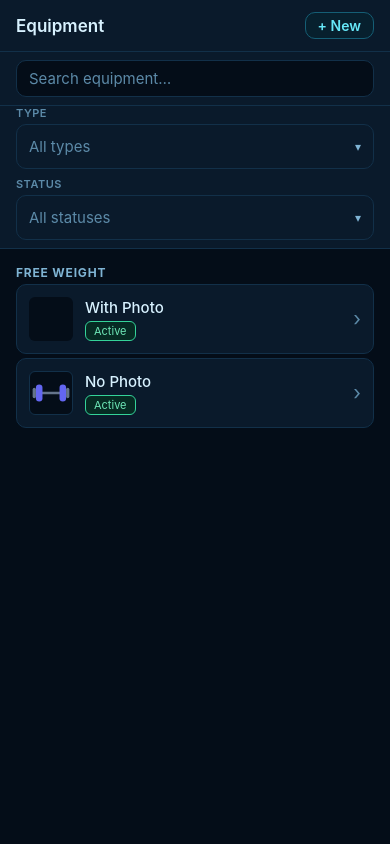
offers to remove the photo only when there is one
The image size is (390, 844).
Click the text "No Photo" at [118, 381], box [85,372,151,390]
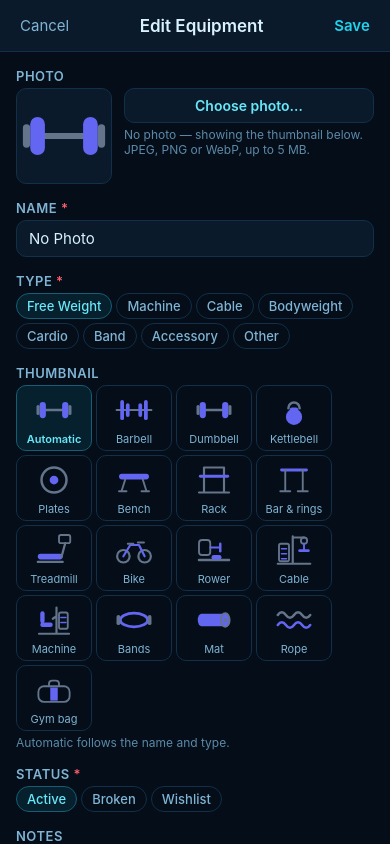
Expected: the text "Remove photo" is not shown
Result: the text "Edit Equipment" is shown at [140,16,264,36]
Result: the text "Choose photo…" is shown at [195,97,303,114]
Click the text "Cancel" at [45, 26], box [20,16,69,35]
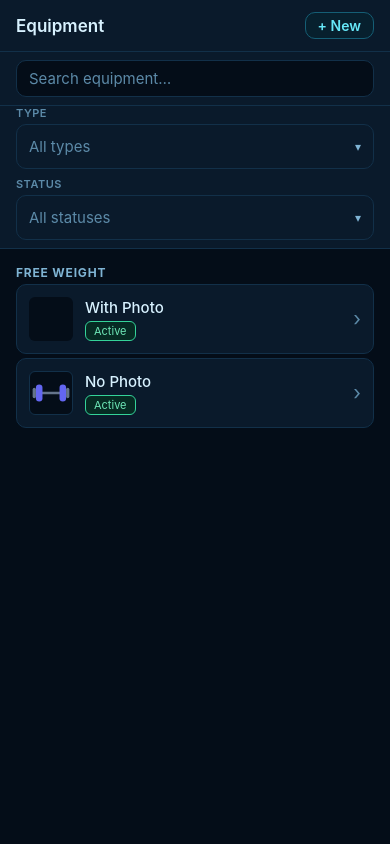
Click the text "With Photo" at [124, 307], box [85,298,164,316]
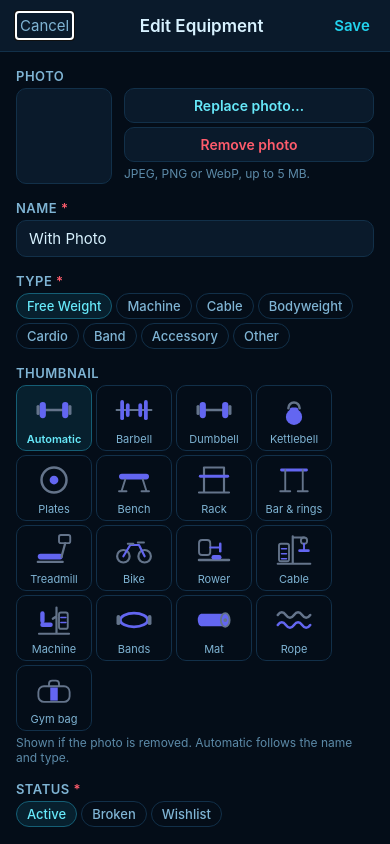
Result: the text "Edit Equipment" is shown at [140,16,264,36]
Result: the text "Replace photo…" is shown at [194,97,304,114]
Result: the text "Remove photo" is shown at [200,136,298,153]
